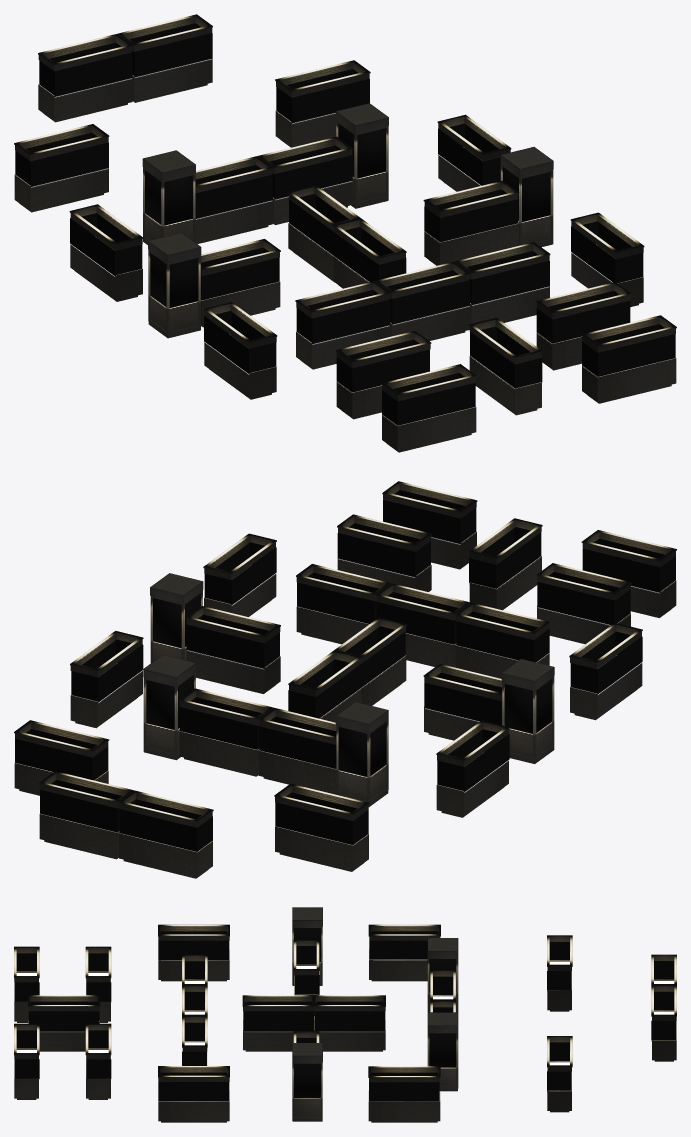
The model's file is DisplayCases.fbx.
3 renders of one model, top to bottom at view 1: azimuth 30°, elevation 25°; view 2: azimuth 150°, elevation 25°; view 3: azimuth 270°, elevation 25°, orthographic. The views are drawn at different scales.
Parts seen in each view (by area): view 1: DisplayCaseWood_7, DisplayCaseWood_6, DisplayCaseWood_2, DisplayCaseWood_3, DisplayCaseWood_17, DisplayCaseWood, DisplayCaseWood_22, DisplayCaseWood_14, DisplayCaseWood_12, DisplayCaseWood_5, DisplayCaseWood_13, DisplayCaseWood_10 (+44 smaller); view 2: DisplayCaseWood_2, DisplayCaseWood_3, DisplayCaseWood_17, DisplayCaseWood, DisplayCaseWood_21, DisplayCaseWood_22, DisplayCaseWood_12, DisplayCaseWood_9, DisplayCaseWood_20, DisplayCaseWood_19, DisplayCaseWood_10, DisplayCaseWood_5 (+43 smaller); view 3: DisplayCaseWood_20, DisplayCaseWood_11, DisplayCaseWood_19, DisplayCaseWood_16, DisplayCaseWood_15, DisplayCaseWood_10, DisplayCaseWood_5, Glass_16, Glass_15, Glass_20, Glass_11, Glass_10 (+38 smaller).
Boxes of the visible parts, x1=… form: DisplayCaseWood_7: x1=581, y1=315, x2=676, y2=403; DisplayCaseWood_6: x1=381, y1=364, x2=476, y2=452; DisplayCaseWood_2: x1=38, y1=34, x2=133, y2=122; DisplayCaseWood_3: x1=14, y1=124, x2=109, y2=212; DisplayCaseWood_17: x1=423, y1=180, x2=519, y2=265; DisplayCaseWood: x1=118, y1=14, x2=212, y2=102; DisplayCaseWood_22: x1=195, y1=156, x2=273, y2=243; DisplayCaseWood_14: x1=295, y1=281, x2=390, y2=369; DisplayCaseWood_12: x1=455, y1=242, x2=550, y2=323; DisplayCaseWood_5: x1=469, y1=317, x2=542, y2=415; DisplayCaseWood_13: x1=375, y1=261, x2=470, y2=340; DisplayCaseWood_10: x1=203, y1=302, x2=277, y2=399; DisplayCaseWood_2: x1=118, y1=790, x2=213, y2=878; DisplayCaseWood_3: x1=274, y1=783, x2=369, y2=871; DisplayCaseWood_17: x1=186, y1=606, x2=280, y2=693; DisplayCaseWood: x1=39, y1=771, x2=133, y2=859; DisplayCaseWood_21: x1=178, y1=688, x2=273, y2=776; DisplayCaseWood_22: x1=258, y1=708, x2=336, y2=794; DisplayCaseWood_12: x1=296, y1=564, x2=390, y2=644; DisplayCaseWood_9: x1=536, y1=563, x2=631, y2=644; DisplayCaseWood_20: x1=70, y1=631, x2=143, y2=728; DisplayCaseWood_19: x1=436, y1=720, x2=509, y2=817; DisplayCaseWood_10: x1=569, y1=623, x2=642, y2=720; DisplayCaseWood_5: x1=469, y1=518, x2=542, y2=610; DisplayCaseWood_20: x1=368, y1=1066, x2=440, y2=1122; DisplayCaseWood_11: x1=158, y1=1066, x2=229, y2=1122; DisplayCaseWood_19: x1=368, y1=924, x2=440, y2=981; DisplayCaseWood_16: x1=314, y1=995, x2=385, y2=1051; DisplayCaseWood_15: x1=242, y1=995, x2=314, y2=1051; DisplayCaseWood_10: x1=158, y1=924, x2=229, y2=981; DisplayCaseWood_5: x1=28, y1=995, x2=100, y2=1051; Glass_16: x1=314, y1=1001, x2=385, y2=1030; Glass_15: x1=243, y1=1001, x2=314, y2=1030; Glass_20: x1=369, y1=1072, x2=439, y2=1101; Glass_11: x1=158, y1=1072, x2=229, y2=1100; Glass_10: x1=158, y1=931, x2=229, y2=959.
Size of the model in its own units: 1983 by 401 by 3646.
26 materials, 1 textured.
